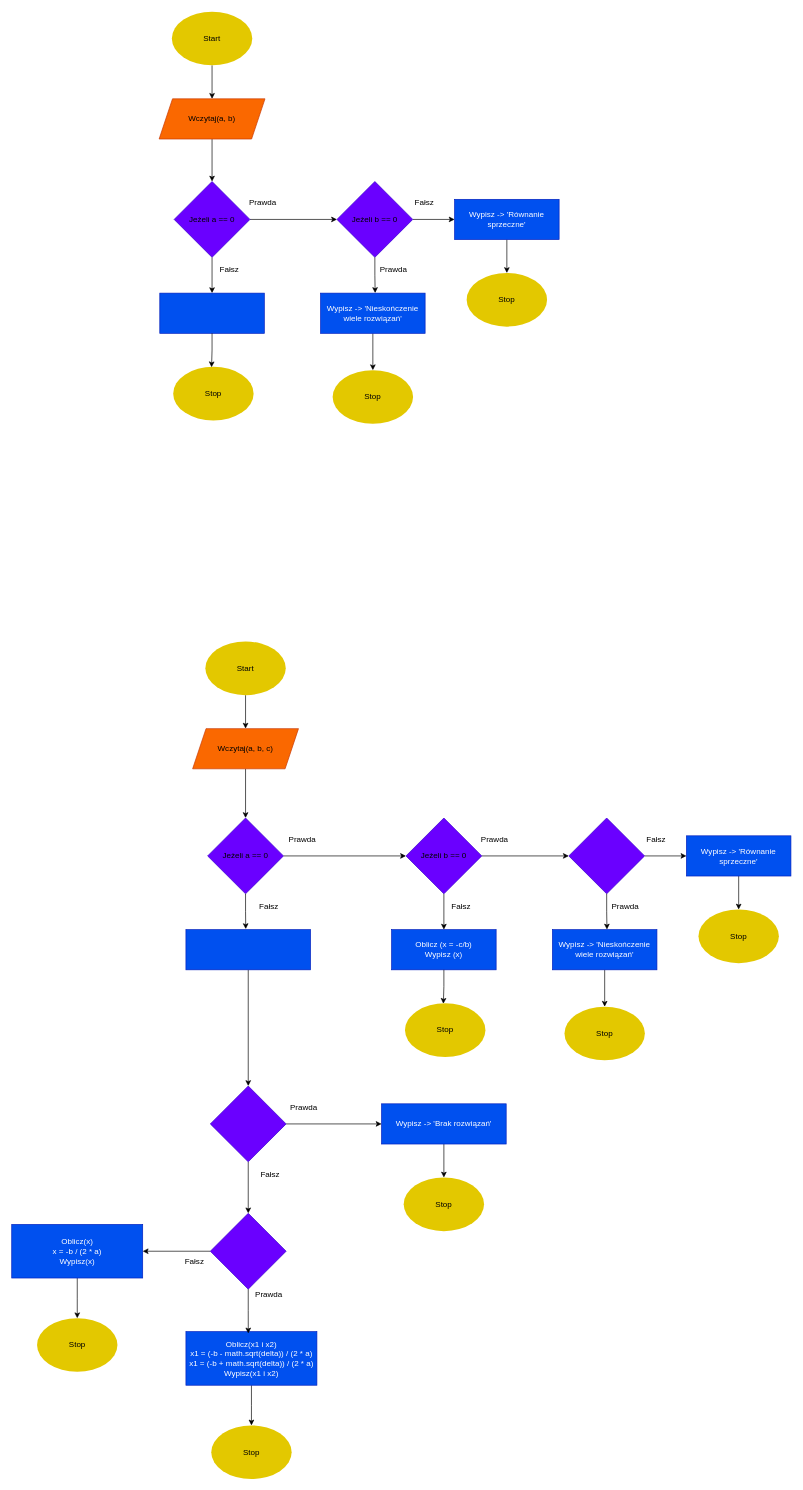
The diagram is 803 pixels wide and 1490 high, and some of its shapes have lost their labels. The shapes that lost their labels are listed below. From the top down, each one's centre as x and y in pixels, then its label:
point (211, 312): Oblicz (x = -b/a) Wypisz (x)
point (606, 855): Jeżeli c == 0
point (248, 949): Oblicz (delta = b**2 - 4 * a * c)
point (248, 1123): Jeżeli delta < 0
point (248, 1250): Jeżeli delta > 0
